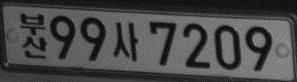0: (213, 23, 241, 70)
1: (20, 13, 47, 60)
2: (182, 22, 210, 69)
7: (148, 21, 177, 67)
9: (244, 25, 272, 71), (48, 14, 76, 59), (79, 16, 107, 61)
사: (112, 22, 139, 62)
